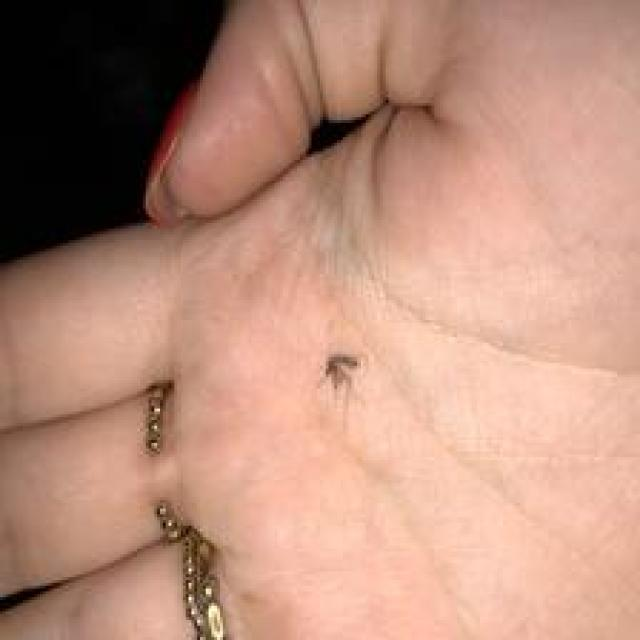Culex: (320, 352, 360, 392)
